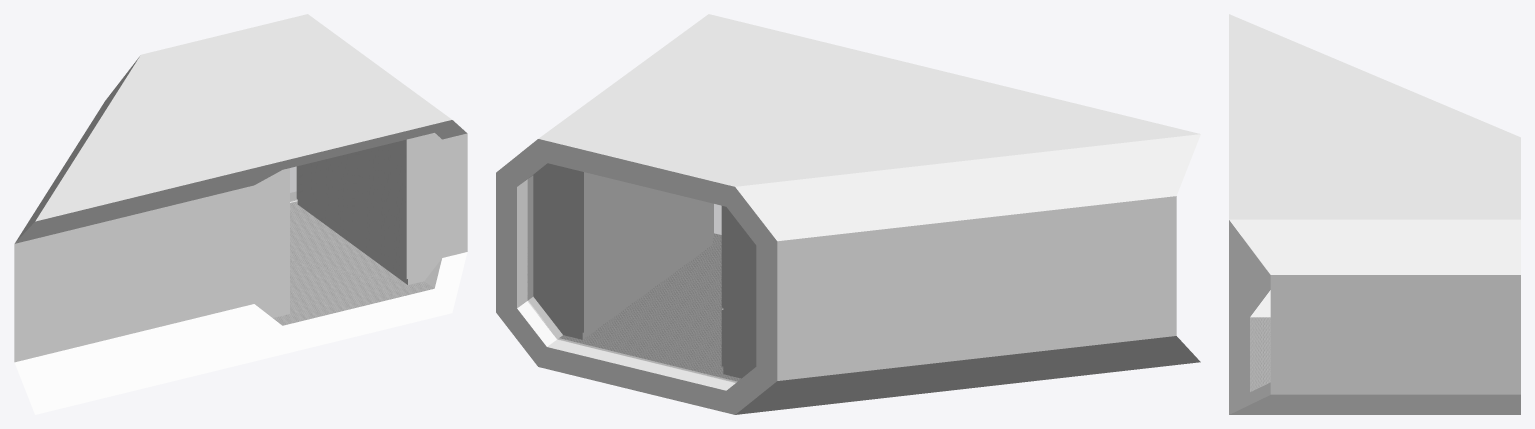
File: ARKHA_L2_StorageBayTri_V1.glb
3 views of the same model, side by side, from view 1: azimuth 30°, elevation 25°; view 2: azimuth 150°, elevation 25°; view 3: azimuth 270°, elevation 25° (orthographic). The views are drawn at different scales.
Visible parts, largest first — view 1: 803725, 796925, 791497, 791498, 791499, 791500, 791501, 791502, 791503, 791504, 791505; view 2: 803725, 791866, 791497, 796905, 791505, 791504, 791503, 791502, 791501, 791500, 791499, 791498; view 3: 803725, 796925.
Part boxes in pixels (bbox=[...]): 803725: bbox=[14, 14, 467, 414]; 796925: bbox=[32, 168, 289, 382]; 791497: bbox=[297, 133, 449, 284]; 791498: bbox=[393, 139, 407, 278]; 791499: bbox=[379, 143, 392, 268]; 791500: bbox=[365, 146, 379, 258]; 791501: bbox=[351, 150, 365, 248]; 791502: bbox=[338, 153, 351, 238]; 791503: bbox=[324, 156, 337, 228]; 791504: bbox=[310, 160, 323, 218]; 791505: bbox=[296, 163, 310, 208]; 803725: bbox=[496, 14, 1200, 414]; 791866: bbox=[528, 163, 755, 382]; 791497: bbox=[533, 163, 712, 339]; 796905: bbox=[721, 206, 756, 378]; 791505: bbox=[582, 172, 600, 332]; 791504: bbox=[600, 176, 616, 320]; 791503: bbox=[616, 180, 632, 308]; 791502: bbox=[632, 184, 648, 296]; 791501: bbox=[649, 188, 665, 284]; 791500: bbox=[665, 192, 681, 272]; 791499: bbox=[681, 196, 697, 261]; 791498: bbox=[697, 200, 713, 249]; 803725: bbox=[1229, 14, 1520, 414]; 796925: bbox=[1250, 248, 1270, 317].
Bounding box in the file's own units: 7.6 × 3.1 × 4.2.
Materials: 533 (1 with a texture image).
